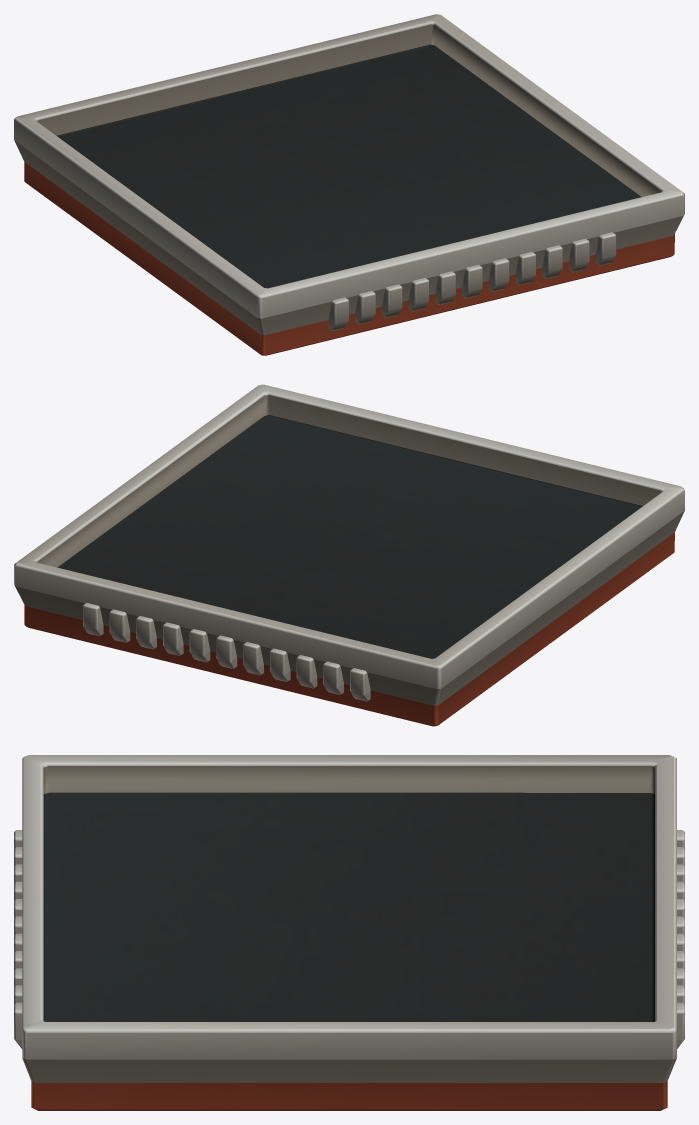
File: office_building_type1_roof_red.fbx
The picture shows the model from 3 angles, top to bottom: view 1: azimuth 30°, elevation 25°; view 2: azimuth 150°, elevation 25°; view 3: azimuth 270°, elevation 25°; orthographic projection. The views are drawn at different scales.
Parts seen in each view (by area): view 1: office_building_type1_roof_red; view 2: office_building_type1_roof_red; view 3: office_building_type1_roof_red.
Boxes of the visible parts, left/top/right/bottom form: office_building_type1_roof_red: left=14, top=14, right=684, bottom=355; office_building_type1_roof_red: left=14, top=384, right=684, bottom=726; office_building_type1_roof_red: left=14, top=755, right=684, bottom=1110.
Bounding box in the file's own units: 1600 × 232 × 1640.
